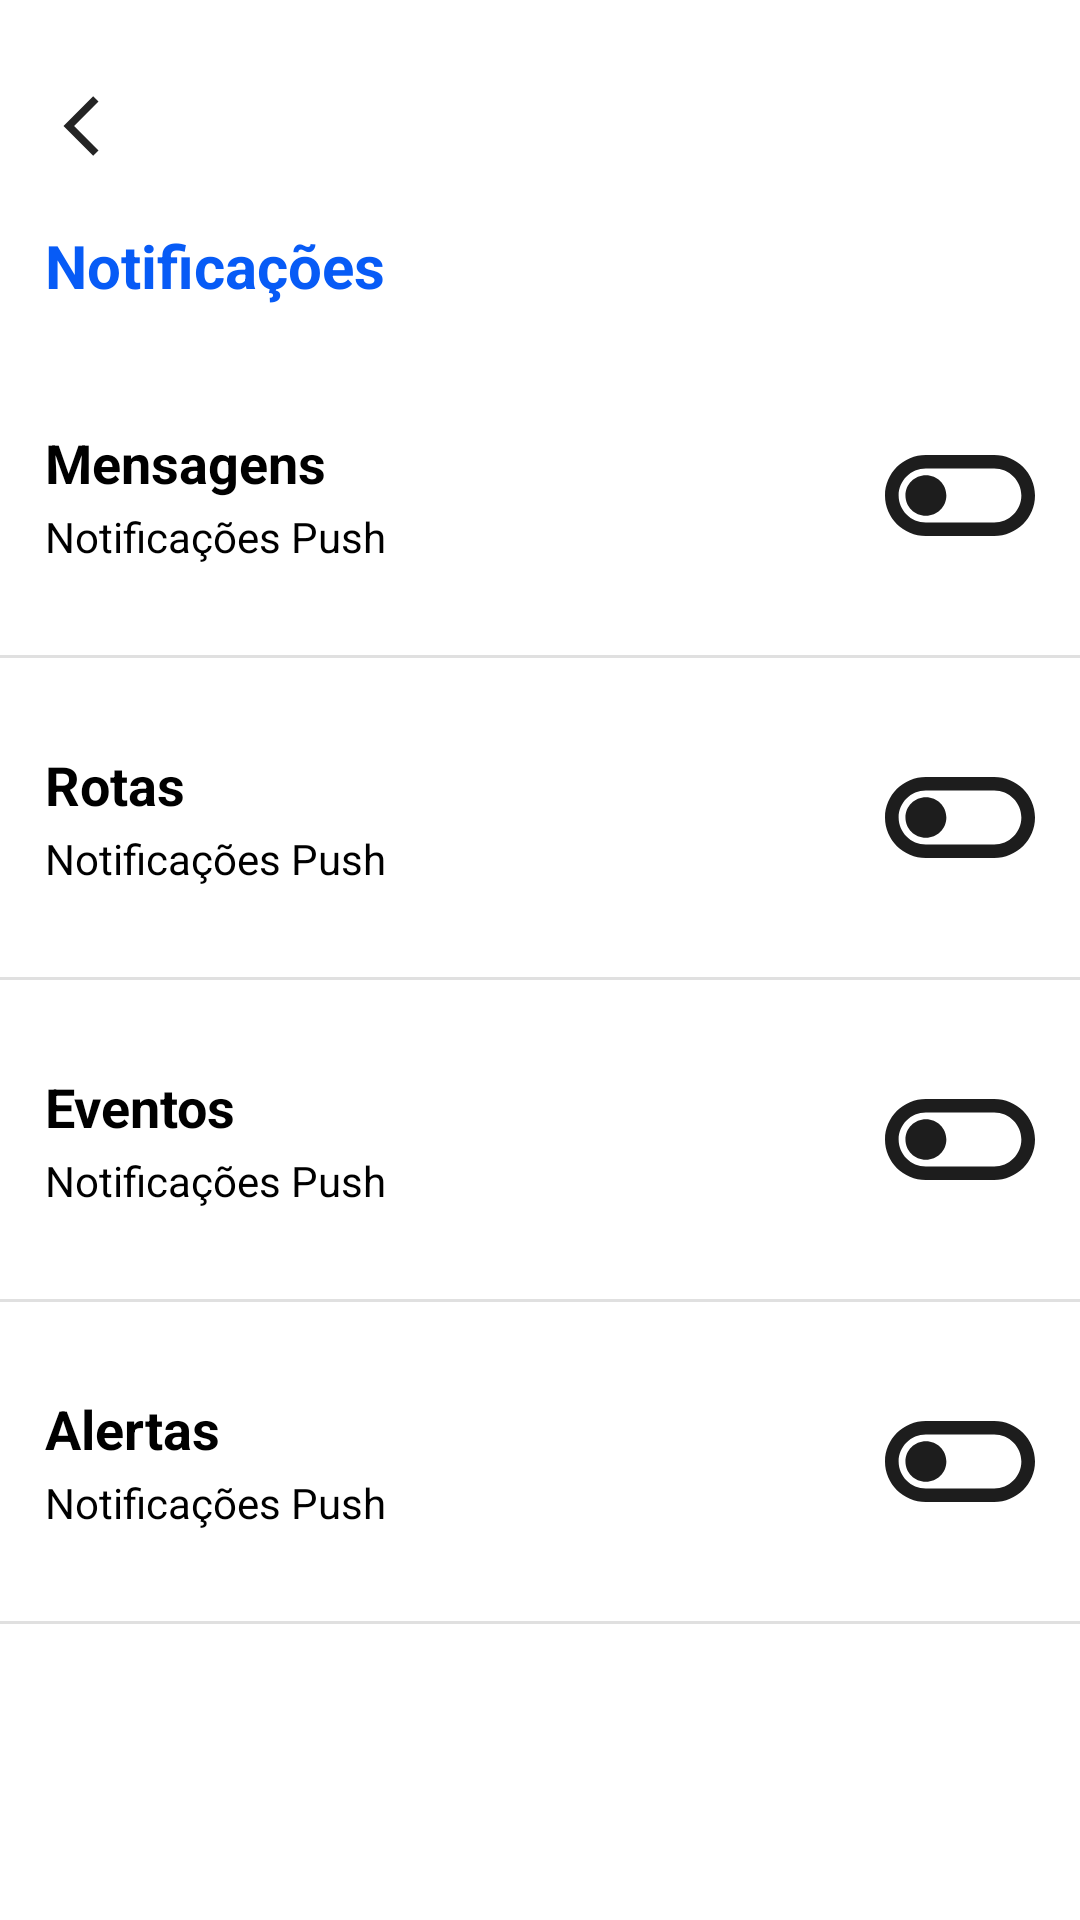

Icons on this 1080 × 1920 Android screen, each with its box as (x1, y1, x2, y2):
back: (63, 96, 99, 156)
